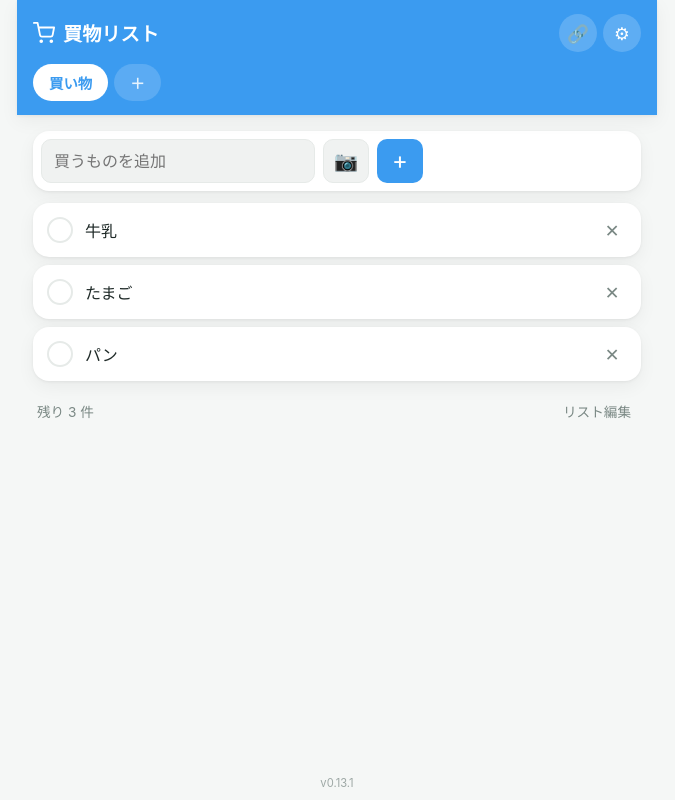
Test: App (ローカルモード) › アイテムを追加できる
The image size is (675, 800).
In the field with placeholder "買うものを追加": coordinates (178, 161) [41, 139, 315, 183], type "りんご"
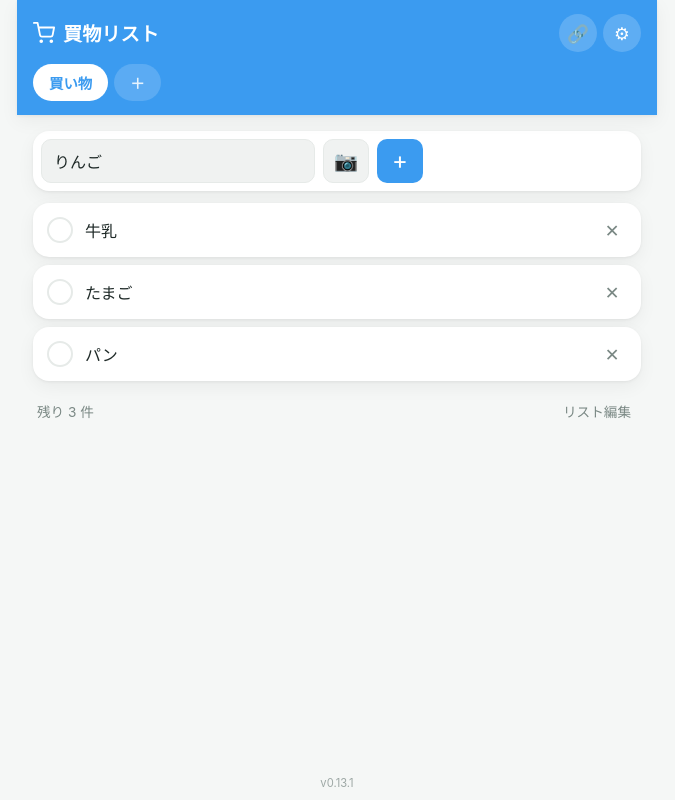
Submit the form with placeholder "買うものを追加", box [33, 131, 641, 191]
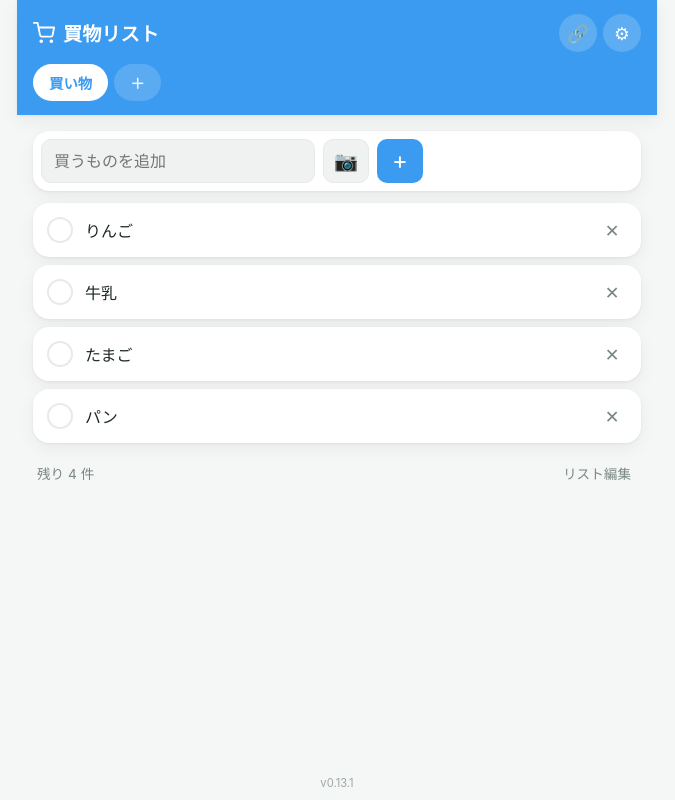
Check: the text "りんご" is shown, box [85, 218, 133, 242]
